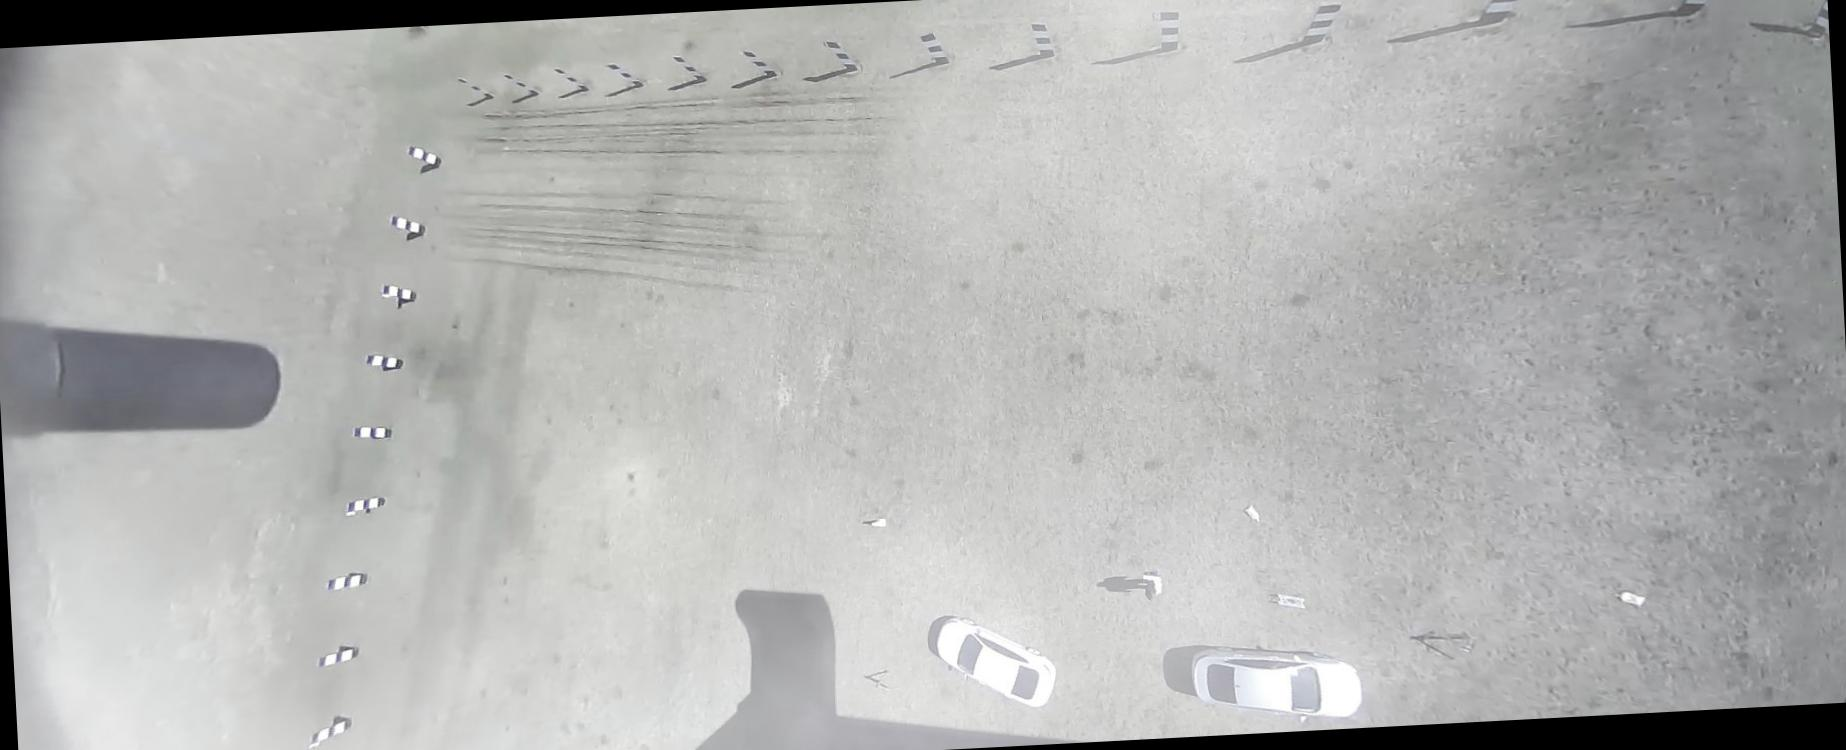vehicle: (1189, 638, 1366, 730), (935, 611, 1060, 714)
